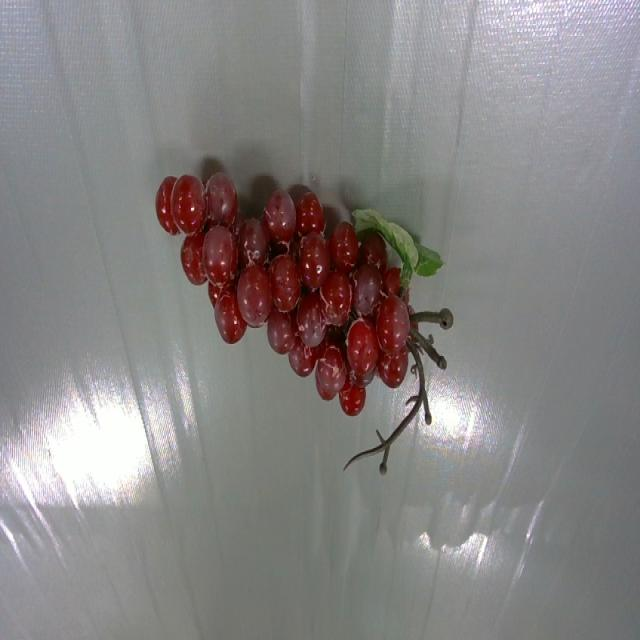grape: (156, 172, 454, 474)
